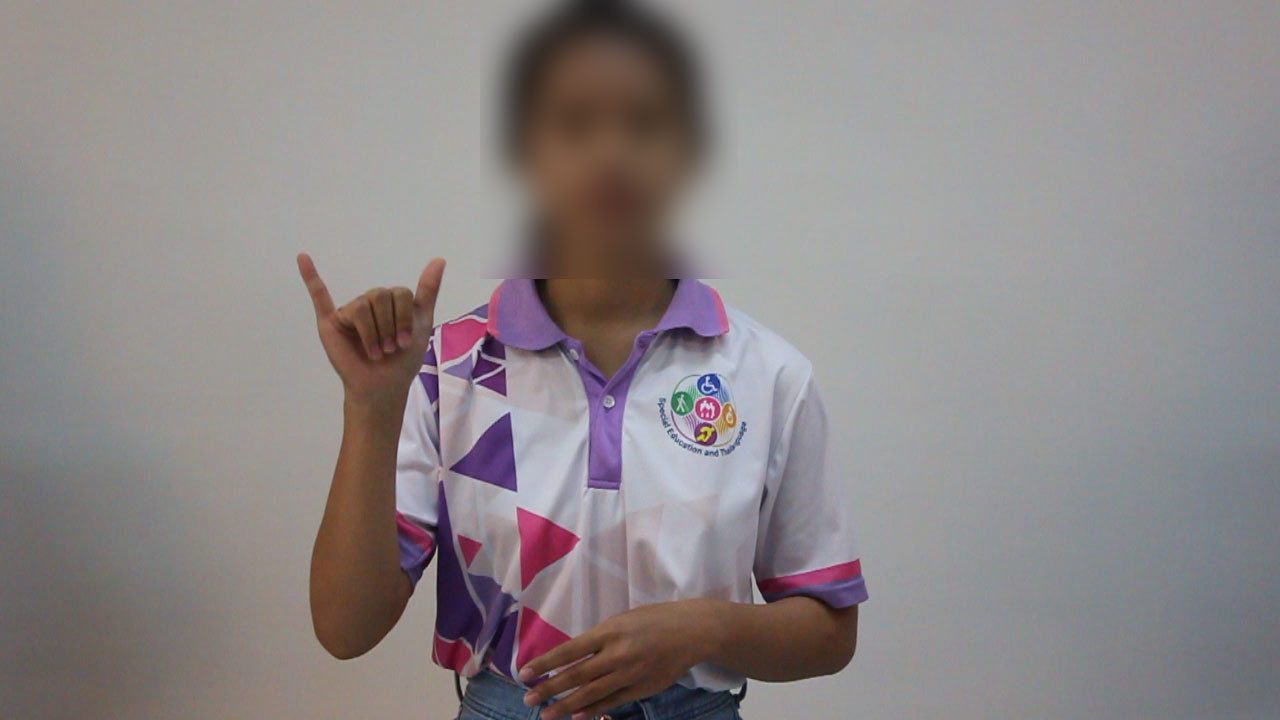yor: (286, 240, 456, 405)
